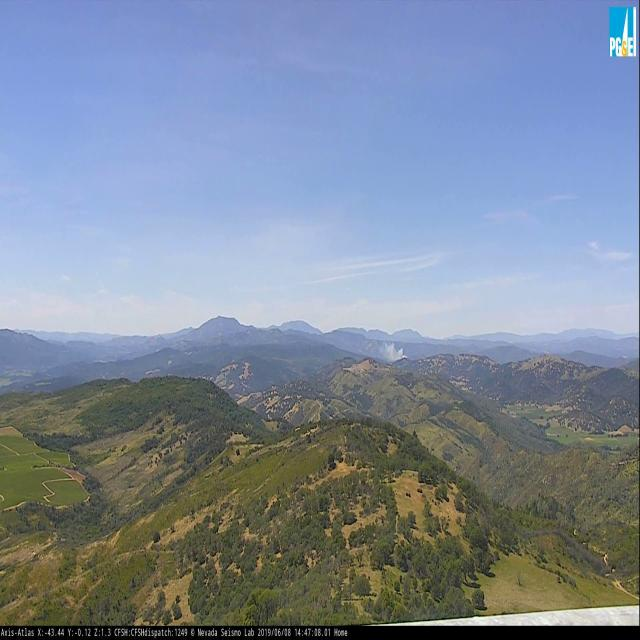smoke: (364, 333, 410, 365)
